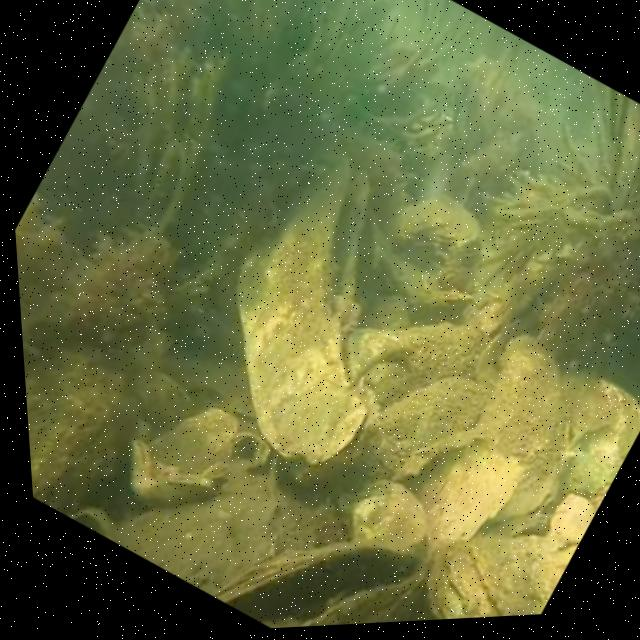Oyster-Indeterminate: (478, 336, 566, 522), (368, 381, 490, 475), (556, 366, 640, 499), (427, 529, 548, 620), (127, 435, 211, 510), (347, 475, 427, 551), (537, 493, 596, 594), (153, 410, 240, 477), (390, 191, 481, 253)
Oyster-Open: (236, 153, 369, 472), (214, 541, 426, 628)
